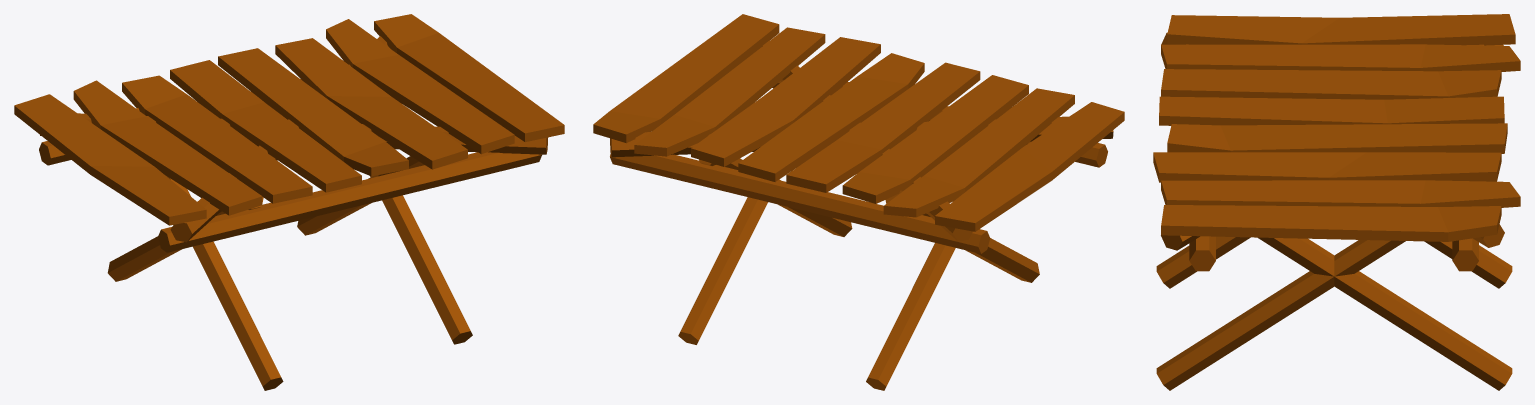
File: GEO_dock_01.fbx
3 views of the same model, side by side, from view 1: azimuth 30°, elevation 25°; view 2: azimuth 150°, elevation 25°; view 3: azimuth 270°, elevation 25° (orthographic). The views are drawn at different scales.
Visible parts, largest first — view 1: dock_01; view 2: dock_01; view 3: dock_01.
Part boxes in pixels (left/top/right/bottom): dock_01: left=14, top=14, right=564, bottom=390; dock_01: left=593, top=14, right=1124, bottom=390; dock_01: left=1153, top=14, right=1520, bottom=390.
Size of the model in its own units: 472 by 223 by 342.
